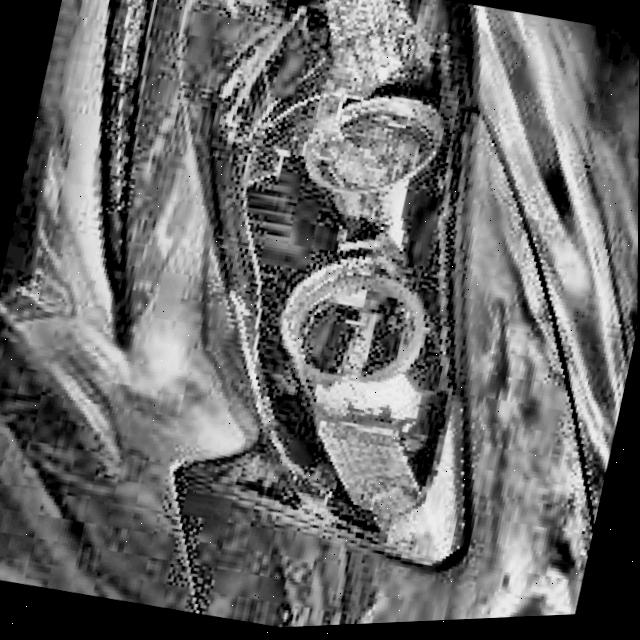head_lamp: (172, 212, 501, 578), (201, 0, 492, 250)
